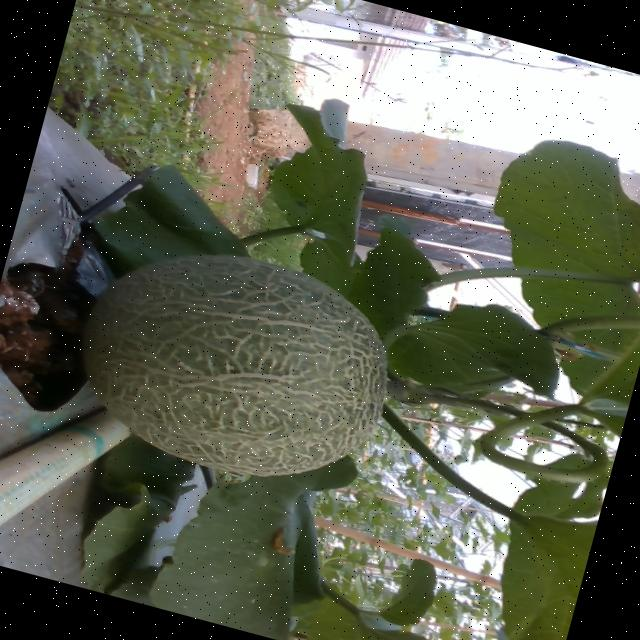melon: (81, 256, 385, 477)
